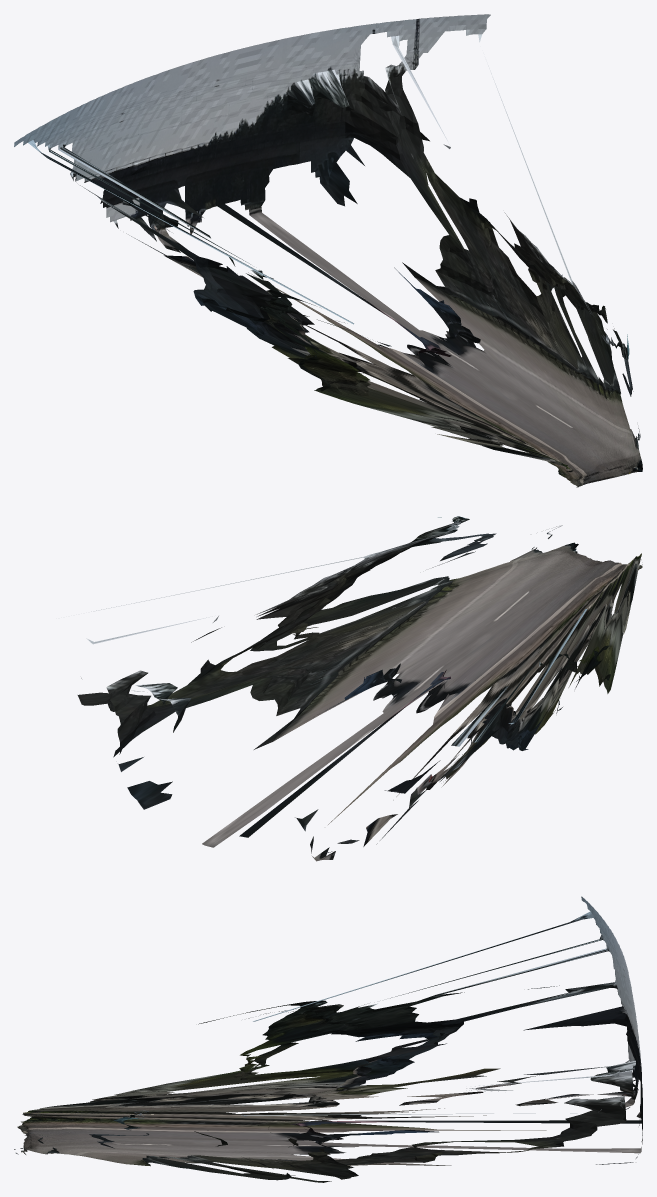
3 renders of one model, top to bottom at view 1: azimuth 30°, elevation 25°; view 2: azimuth 150°, elevation 25°; view 3: azimuth 270°, elevation 25°, orthographic. The views are drawn at different scales.
Parts seen in each view (by area): view 1: defaultobject; view 2: defaultobject; view 3: defaultobject.
Part boxes in pixels (left/top/right/bottom): defaultobject: left=14, top=14, right=642, bottom=487; defaultobject: left=77, top=516, right=642, bottom=861; defaultobject: left=14, top=896, right=642, bottom=1182.
Size of the model in its own units: 34.07 by 12.08 by 44.92.
Materials: 1 (1 with a texture image).
